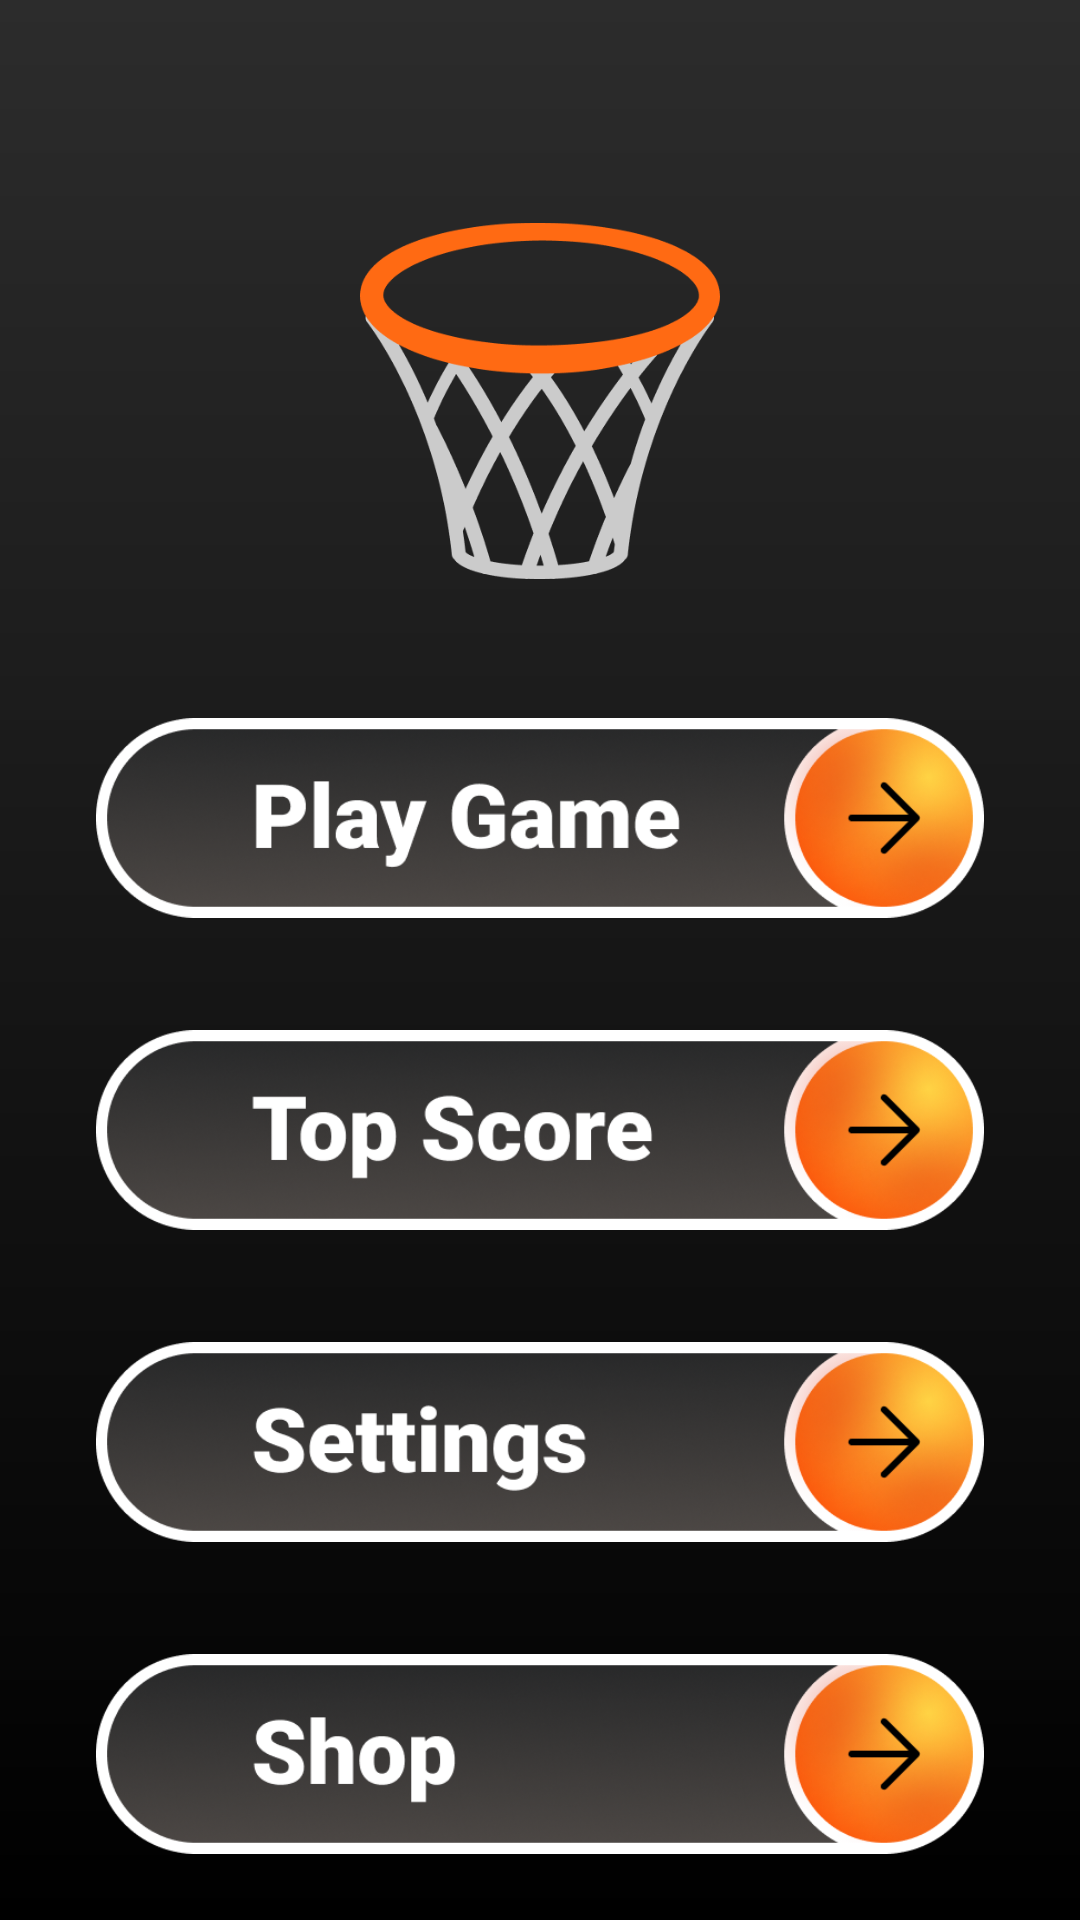

Locate icon controls on the screen. Image size 1080x1920, boxes as rect(x1, y1, x2, y2).
basket: rect(360, 223, 720, 579)
